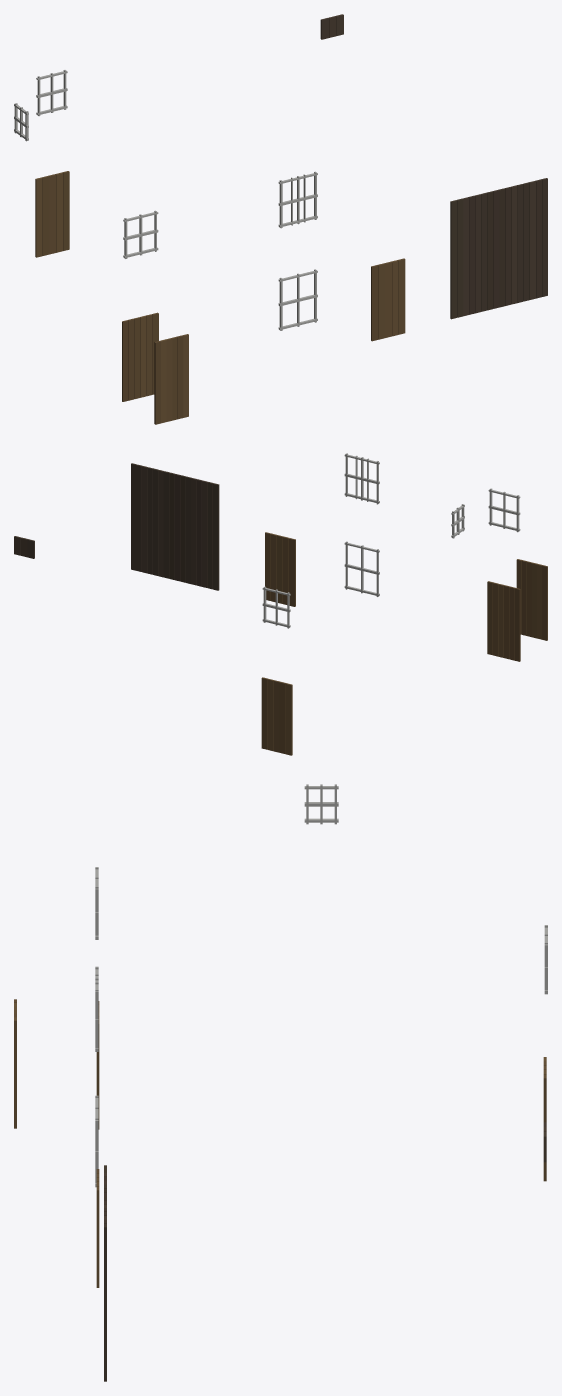
File: SM_Bld_179_Wood.glb
3 renders of one model, top to bottom at view 1: azimuth 30°, elevation 25°; view 2: azimuth 150°, elevation 25°; view 3: azimuth 270°, elevation 25°, orthographic. The views are drawn at different scales.
Parts seen in each view (by area): view 1: SM_Bld_179_Wood; view 2: SM_Bld_179_Wood; view 3: SM_Bld_179_Wood.
Part boxes in pixels (x1=…): SM_Bld_179_Wood: x1=14, y1=14, x2=547, y2=424; SM_Bld_179_Wood: x1=14, y1=453, x2=547, y2=755; SM_Bld_179_Wood: x1=14, y1=784, x2=547, y2=1381.
Bounding box in the file's own units: 11.94 × 6.05 × 9.41.
